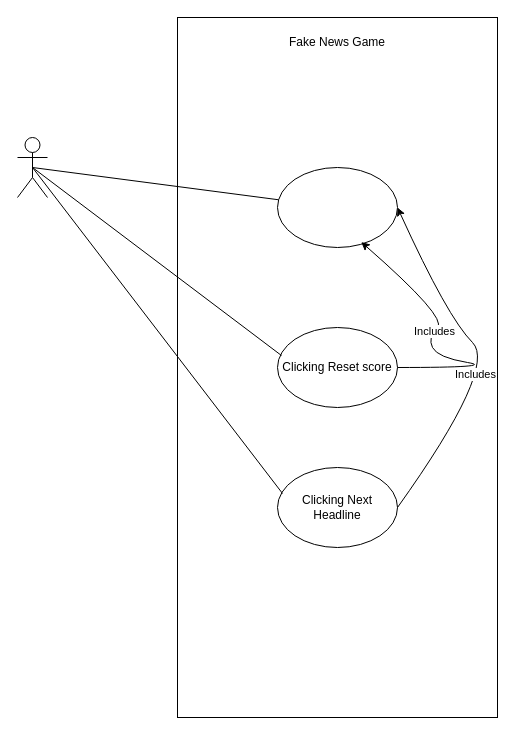
Image size: 515x735. Some labels were removed from this diagram. Each missing label, with the centre of its shape:
Clicking real or fake: point (337, 207)
User: point (32, 167)
